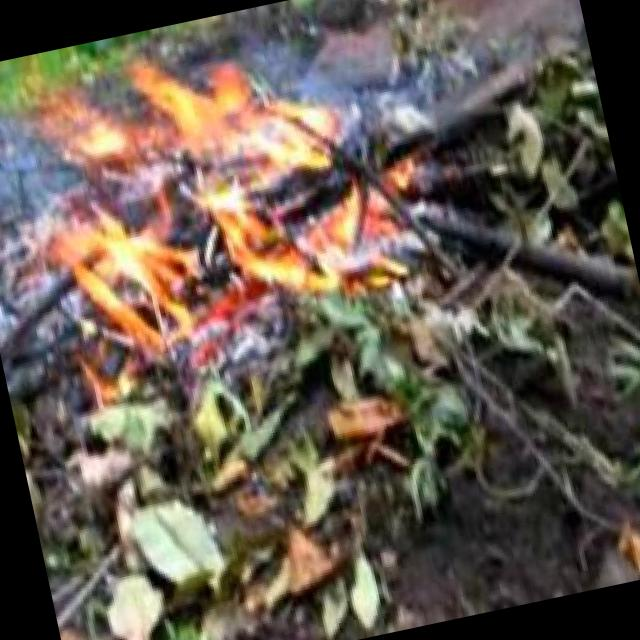Fire: (0, 0, 459, 432)
